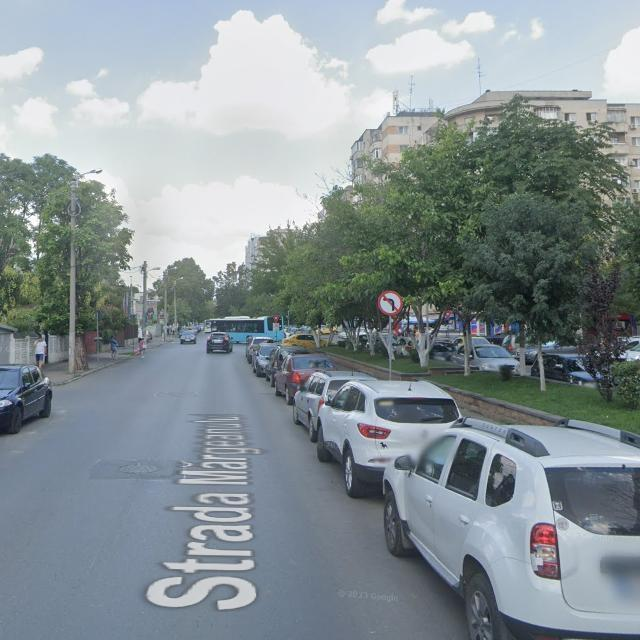prio_give_way: (272, 315, 281, 324)
